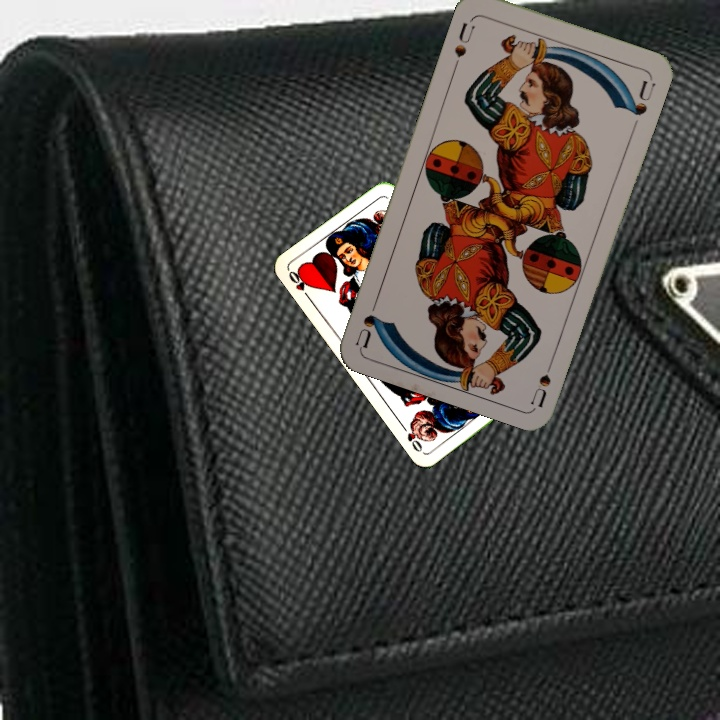HO: (284, 265, 313, 302)
SU: (527, 350, 559, 408), (449, 18, 477, 72)
